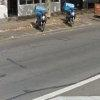Motorcycle: (29, 4, 51, 38)
